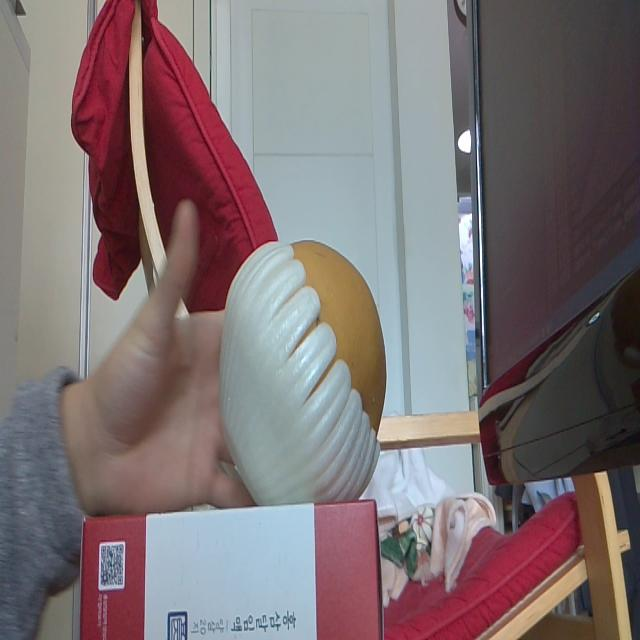pear: (223, 239, 386, 498)
